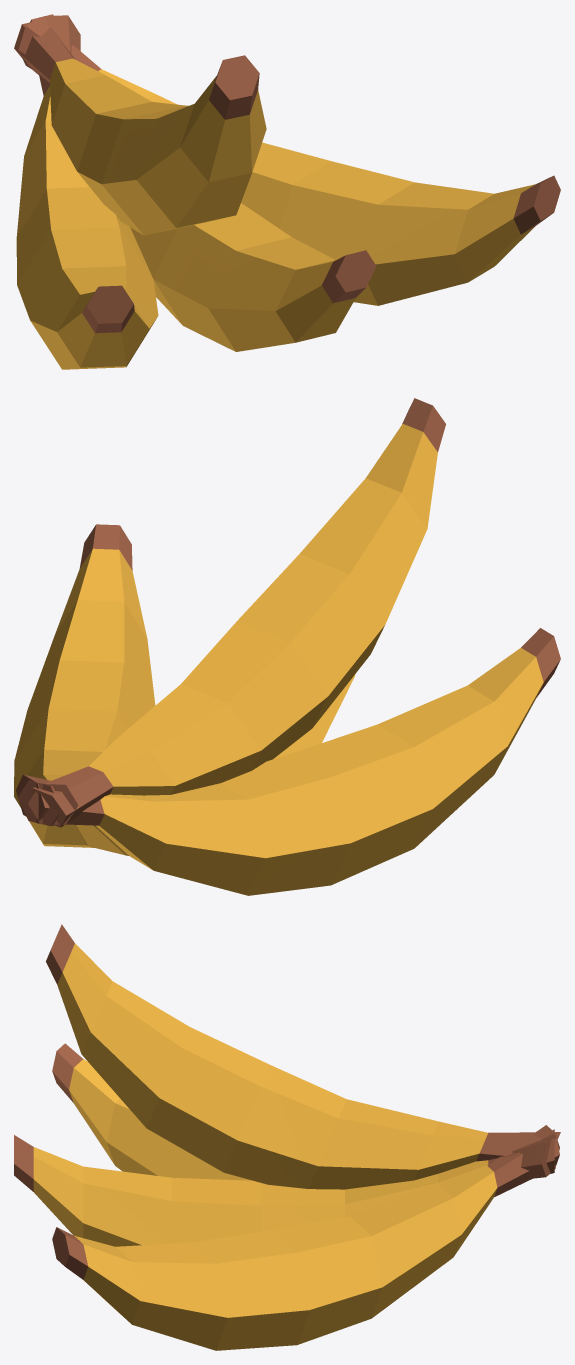
File: banana_stack4.obj
3 views of the same model, one above another, from view 1: azimuth 30°, elevation 25°; view 2: azimuth 150°, elevation 25°; view 3: azimuth 270°, elevation 25° (orthographic). The views are drawn at different scales.
Parts seen in each view (by area): view 1: banana.001, banana.004, banana.002, banana; view 2: banana.002, banana.004, banana.001, banana; view 3: banana.004, banana.001, banana, banana.002.
Part boxes in pixels (x1,y1,x2,y2): banana.001: [18, 17, 560, 305]; banana.004: [14, 22, 266, 235]; banana.002: [16, 15, 158, 369]; banana: [29, 14, 376, 351]; banana.002: [16, 628, 560, 895]; banana.004: [31, 398, 445, 827]; banana.001: [14, 524, 155, 847]; banana: [17, 674, 355, 855]; banana.004: [46, 924, 560, 1189]; banana.001: [52, 1125, 559, 1350]; banana: [14, 1129, 554, 1246]; banana.002: [52, 1043, 559, 1180].
Size of the model in its own units: 0.5494 by 0.4097 by 0.6372.
